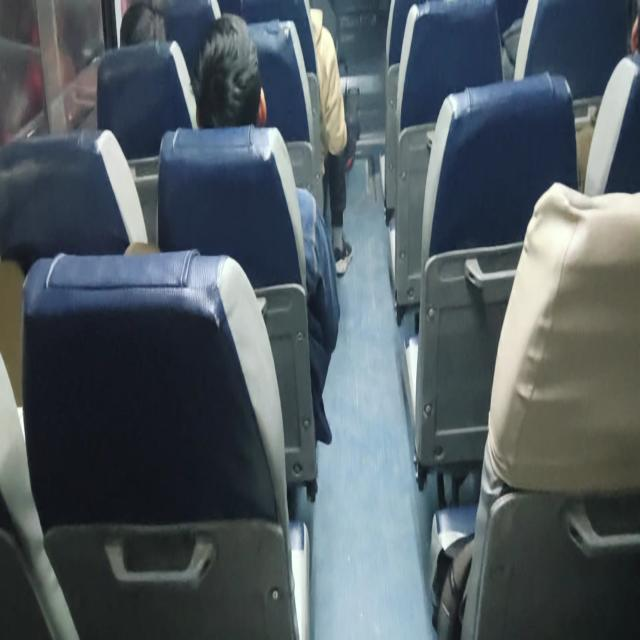person: (192, 12, 341, 445), (244, 0, 353, 275), (308, 5, 353, 275), (194, 12, 267, 129), (119, 1, 168, 46)
